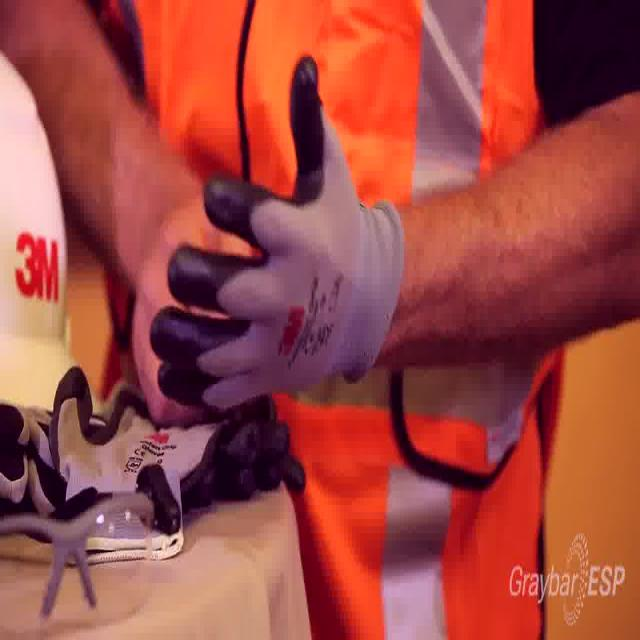gloves: (147, 48, 408, 414)
